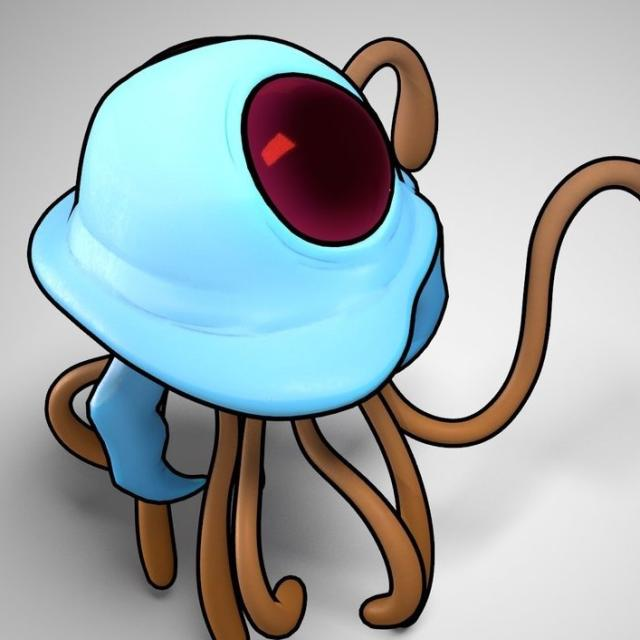Tentacruel: (34, 33, 448, 515)
